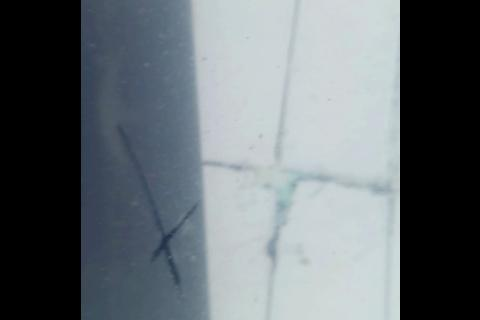keretakan: (112, 121, 199, 304)
